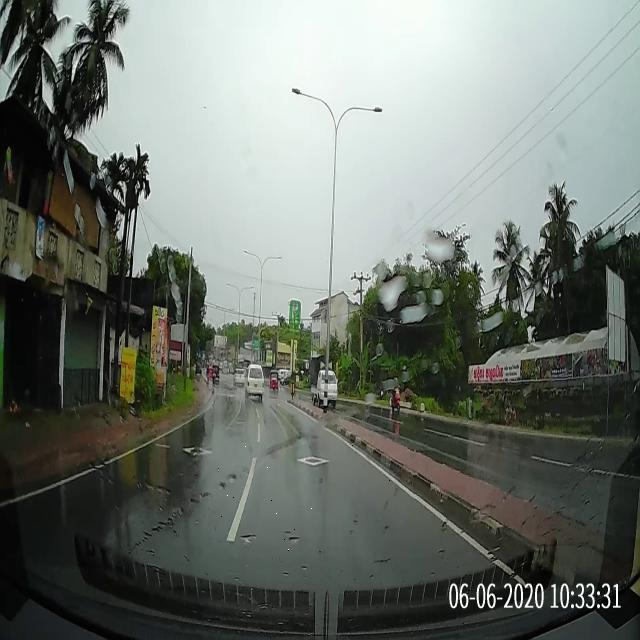diamond: (219, 445, 415, 561)
